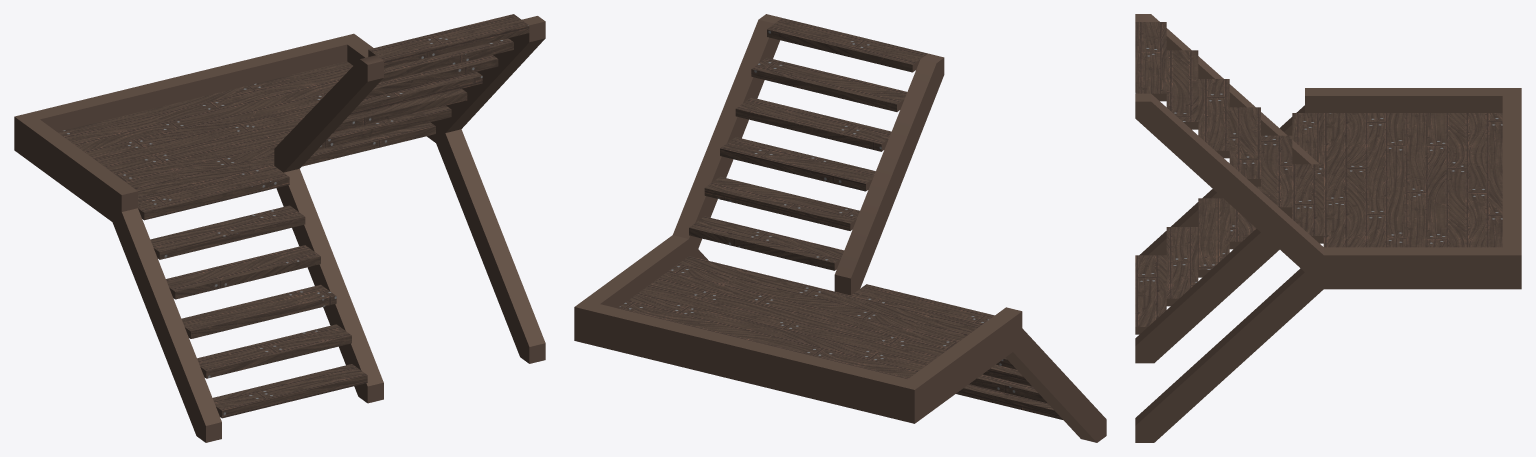
File: SpiralStairs_01.FBX
The picture shows the model from 3 angles, left to right: view 1: azimuth 30°, elevation 25°; view 2: azimuth 150°, elevation 25°; view 3: azimuth 270°, elevation 25°; orthographic projection.
Parts seen in each view (by area): view 1: SpiralStairs_01; view 2: SpiralStairs_01; view 3: SpiralStairs_01.
Part boxes in pixels (<box>): SpiralStairs_01: <box>14,14,545,442</box>; SpiralStairs_01: <box>574,14,1106,442</box>; SpiralStairs_01: <box>1135,14,1521,442</box>.
Bounding box in the file's own units: 4.2 × 4 × 4.1.
